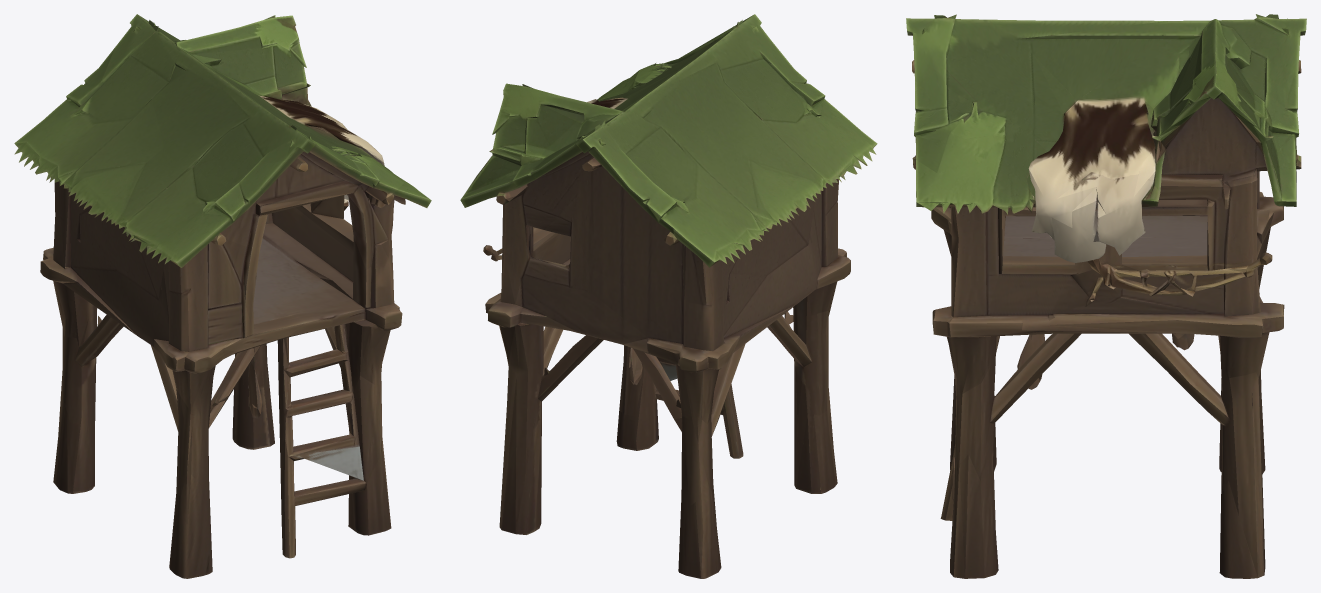
The model's file is stilt_hut.glb.
3 views of the same model, side by side, from view 1: azimuth 30°, elevation 25°; view 2: azimuth 150°, elevation 25°; view 3: azimuth 270°, elevation 25° (orthographic). The views are drawn at different scales.
Visible parts, largest first — view 1: stilt_hut; view 2: stilt_hut; view 3: stilt_hut.
Part boxes in pixels (x1=…): stilt_hut: x1=14, y1=14, x2=431, y2=578; stilt_hut: x1=460, y1=14, x2=877, y2=578; stilt_hut: x1=906, y1=14, x2=1306, y2=578.
Size of the model in its own units: 5.29 by 8 by 5.76.
1 material, 1 textured.
